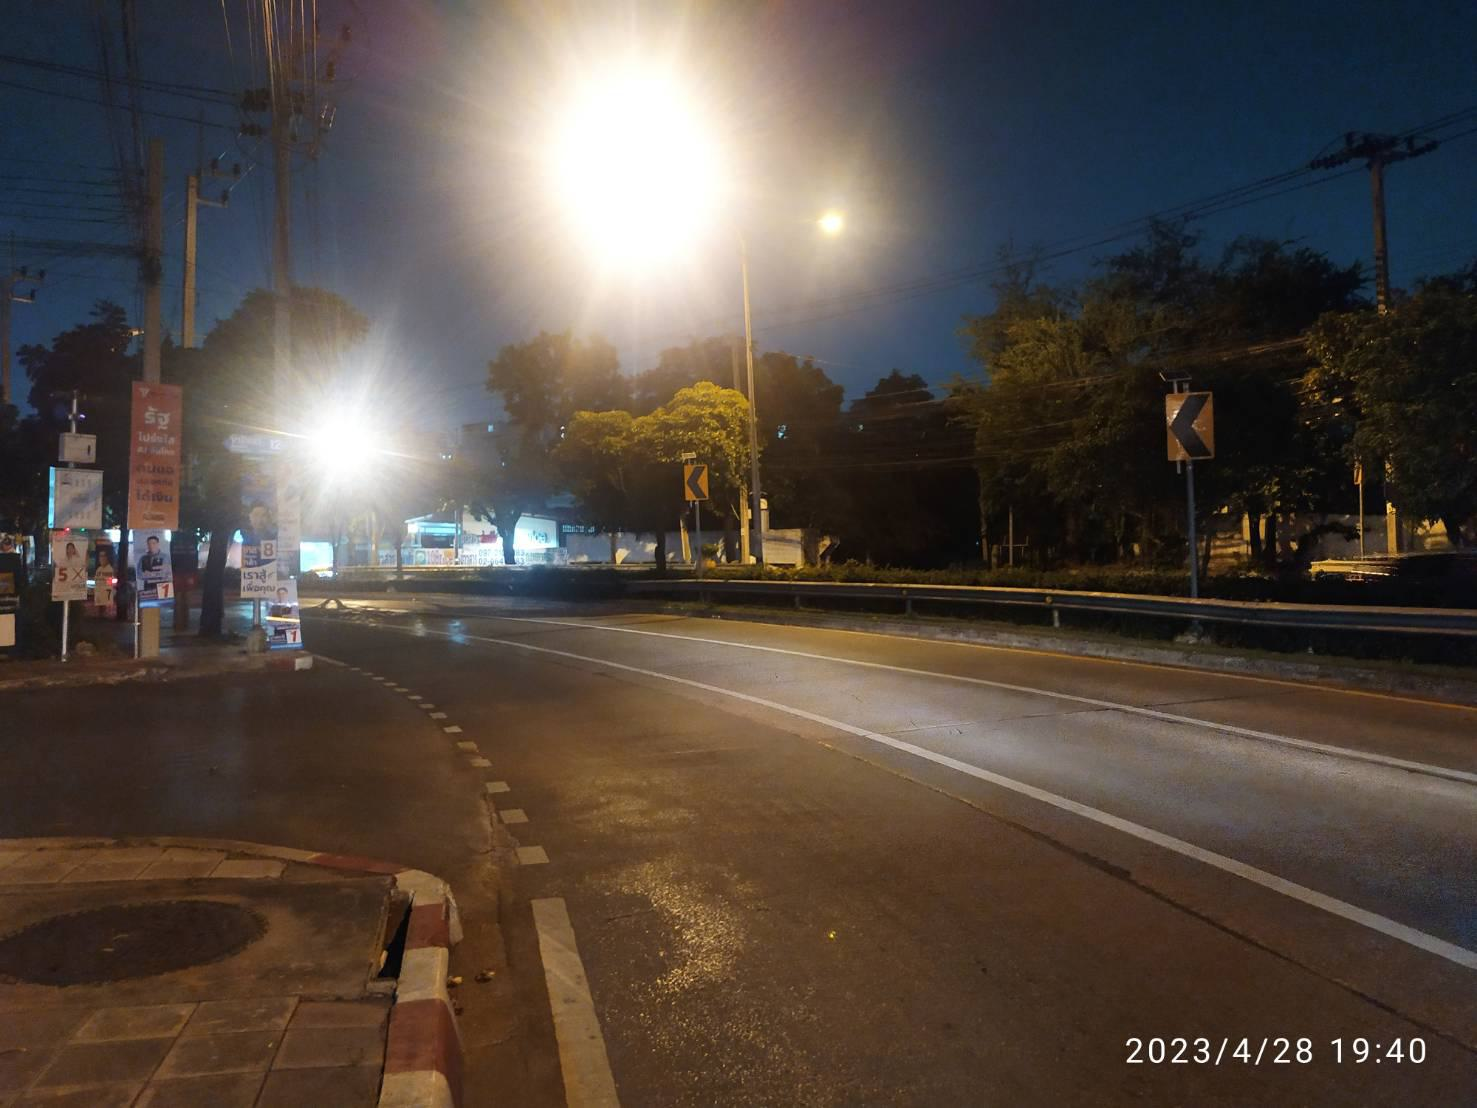Banner: (130, 382, 182, 523), (239, 434, 279, 601), (136, 531, 172, 608)
